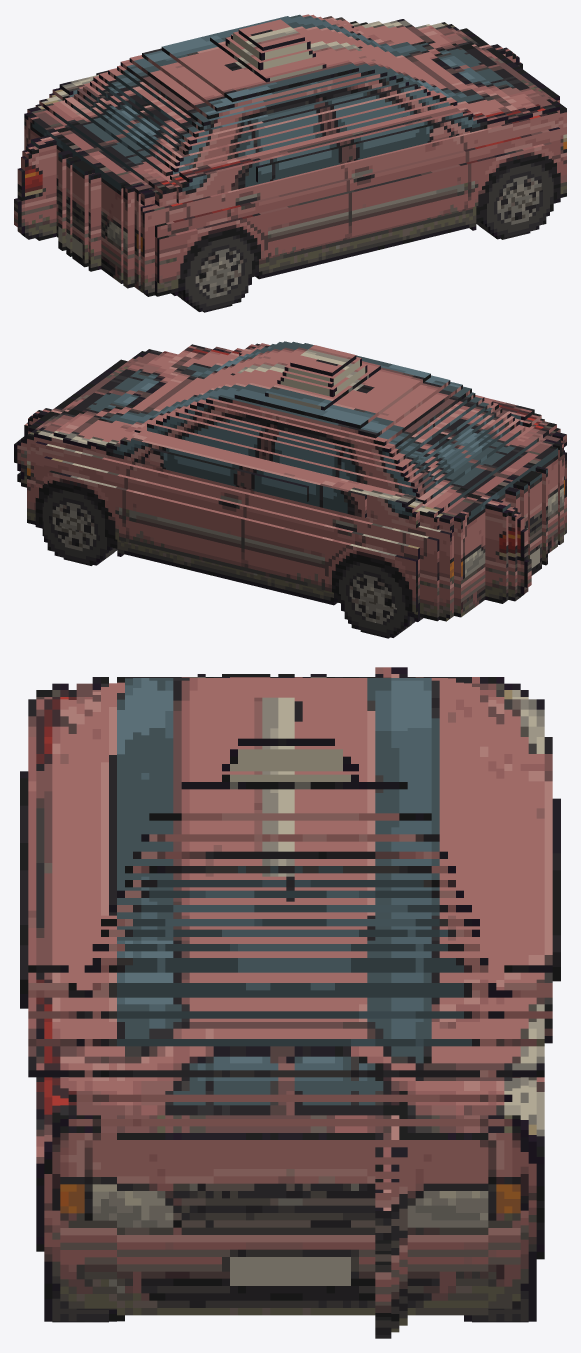
The model's file is city_taxi_pink.glb.
3 views of the same model, one above another, from view 1: azimuth 30°, elevation 25°; view 2: azimuth 150°, elevation 25°; view 3: azimuth 270°, elevation 25° (orthographic). The views are drawn at different scales.
Parts seen in each view (by area): view 1: city_taxi_pink; view 2: city_taxi_pink; view 3: city_taxi_pink.
Boxes of the visible parts, bbox=[...] form: city_taxi_pink: bbox=[14, 14, 566, 312]; city_taxi_pink: bbox=[14, 341, 566, 638]; city_taxi_pink: bbox=[20, 667, 560, 1338].
Bounding box in the file's own units: 4.59 × 1.75 × 2.09.
